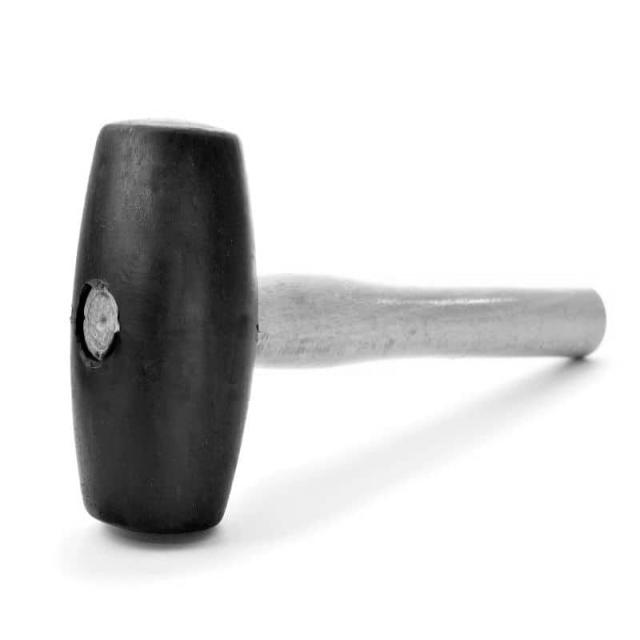hammer: (0, 79, 640, 617)
